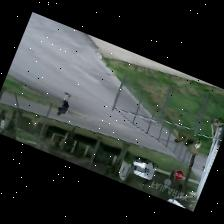person: (57, 93, 71, 115)
